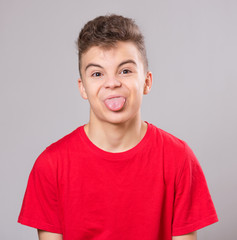teen: (71, 25, 151, 124)
